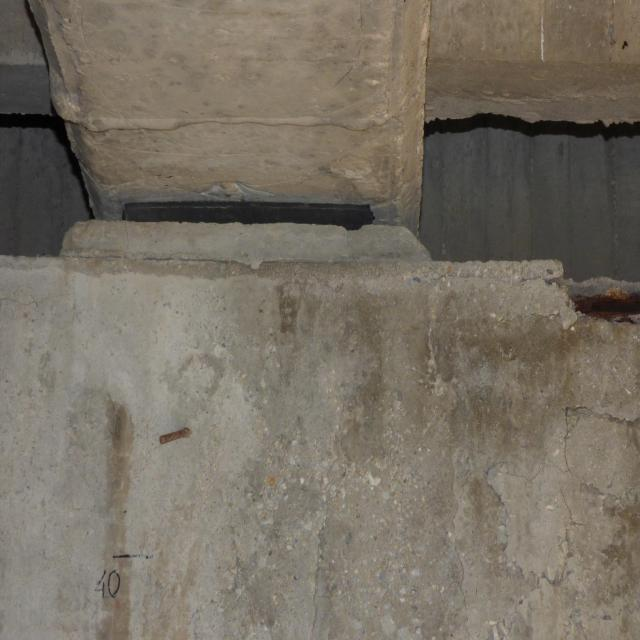Rebar: (546, 258, 640, 331), (159, 424, 192, 446)
horizontal crack: (61, 116, 402, 134)
vertical crack: (483, 400, 640, 640), (450, 454, 469, 639), (308, 503, 332, 640)
